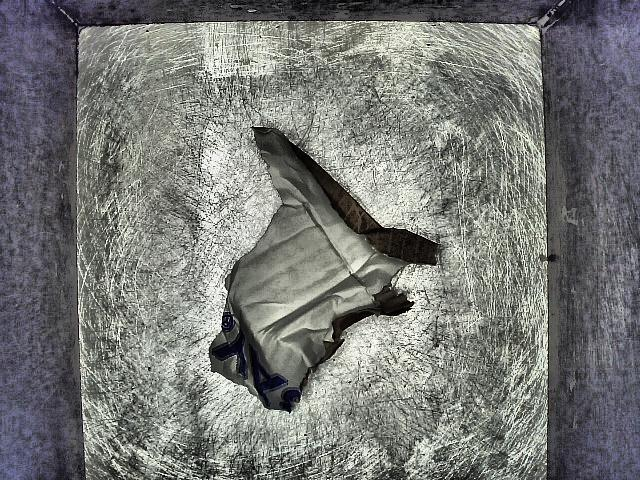Paper: (183, 115, 445, 433)
